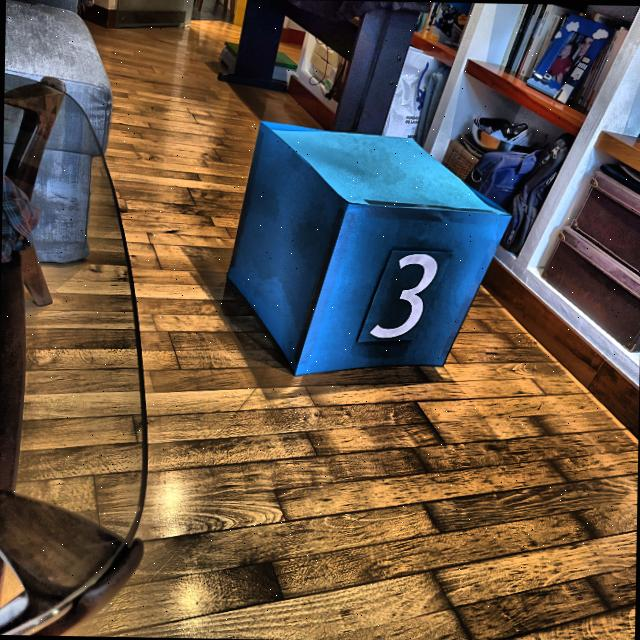blue box: (222, 114, 514, 384)
three: (368, 248, 441, 343)
